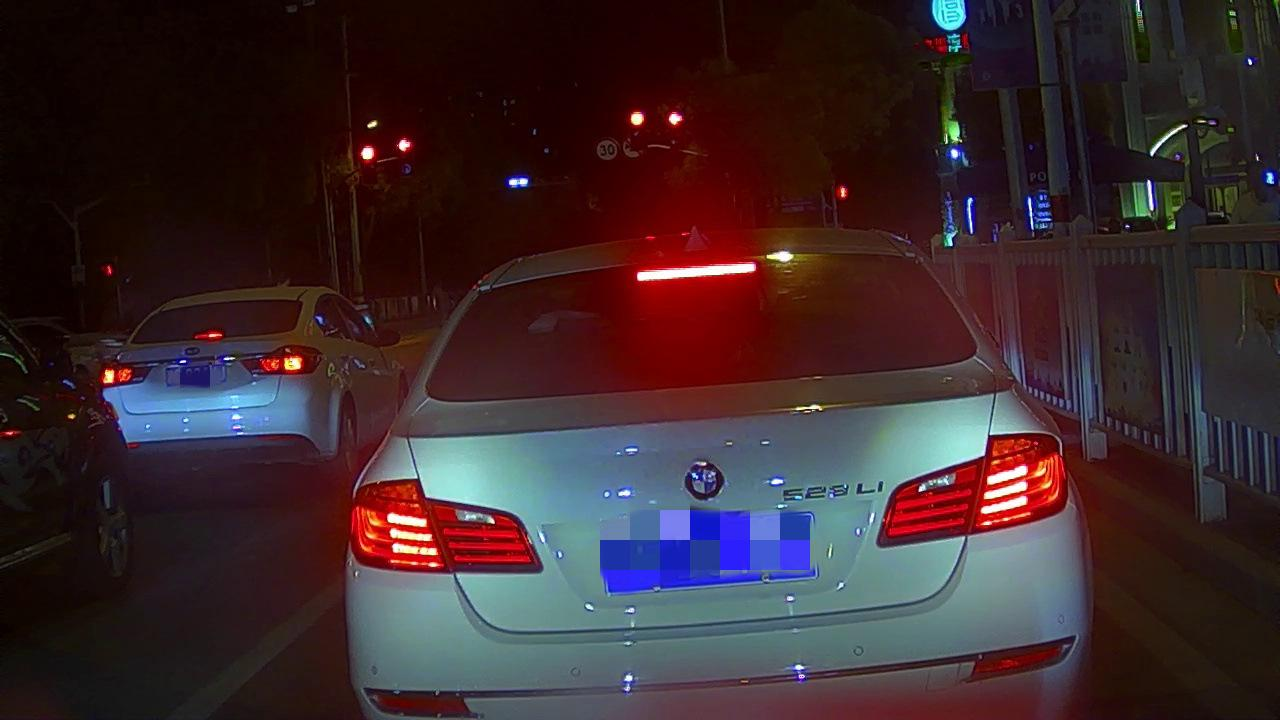traffic_light: (358, 138, 376, 169), (625, 108, 649, 129), (663, 109, 686, 130), (394, 134, 415, 156)
